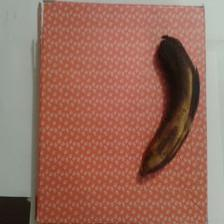Banana Rotten: (143, 24, 197, 191)
